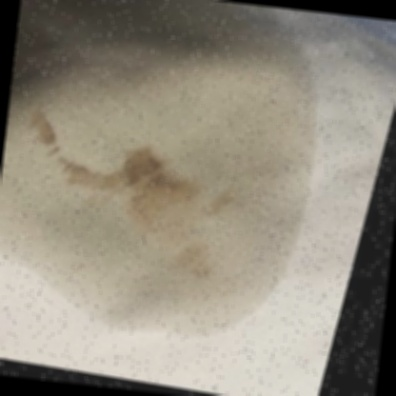coffee: (0, 30, 309, 312)
